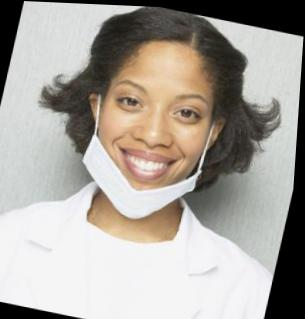WRONG: (81, 57, 226, 222)
